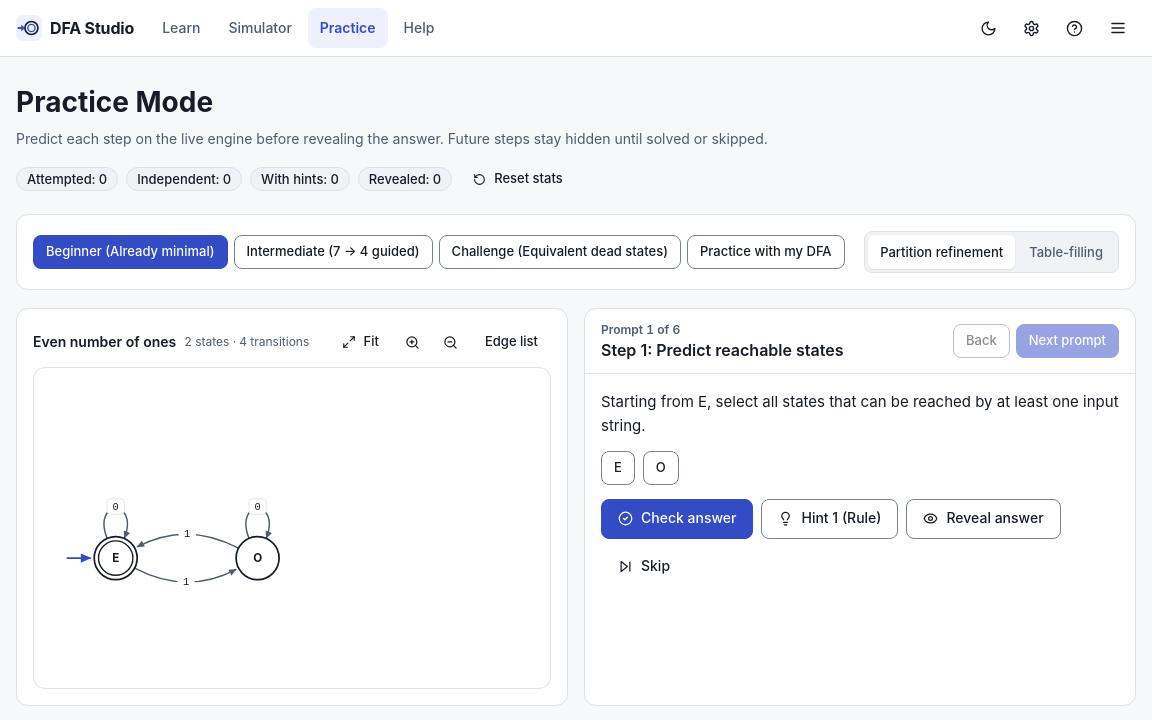
Test: UI Integration — Landing, Simulator, Builder, Practice, Persistence › supports Practice Mode answer validation and hints
Expected: the heading "Practice Mode" is shown, [16, 85, 213, 119]
Note: Beginner preset is Even-ones: E and O are both reachable
Click the button "E" at {"x": 618, "y": 468}, box [601, 451, 635, 485]
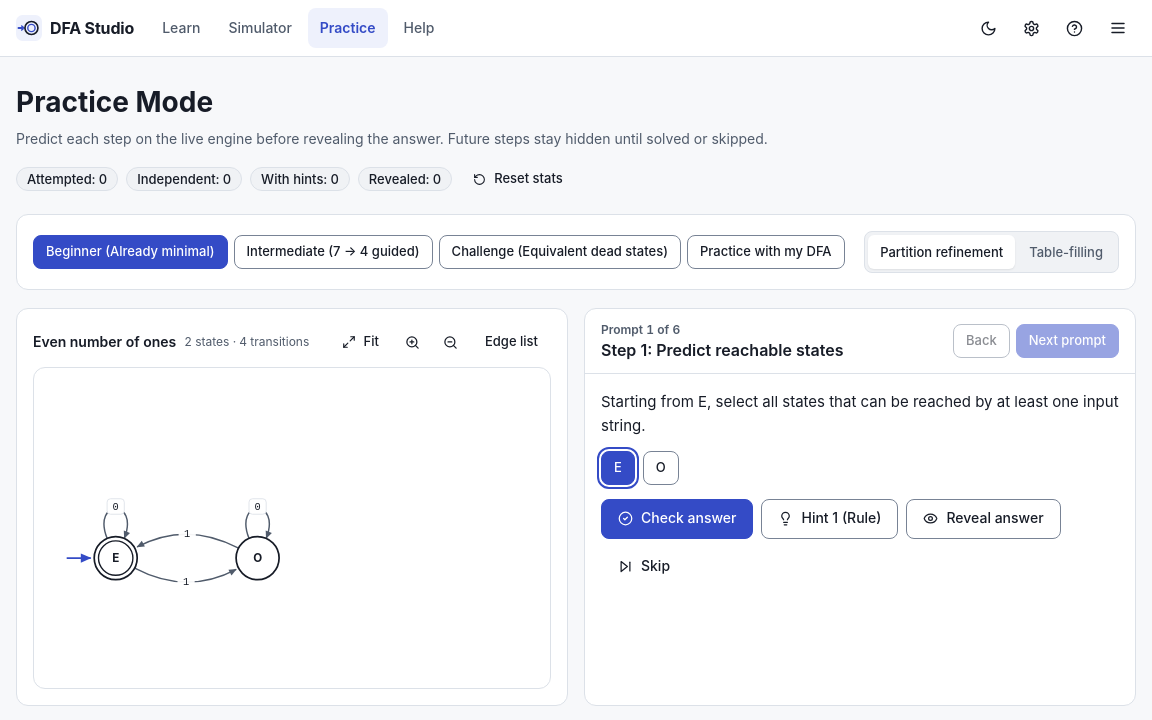
Click the button "O" at {"x": 661, "y": 468}, box [643, 451, 679, 485]
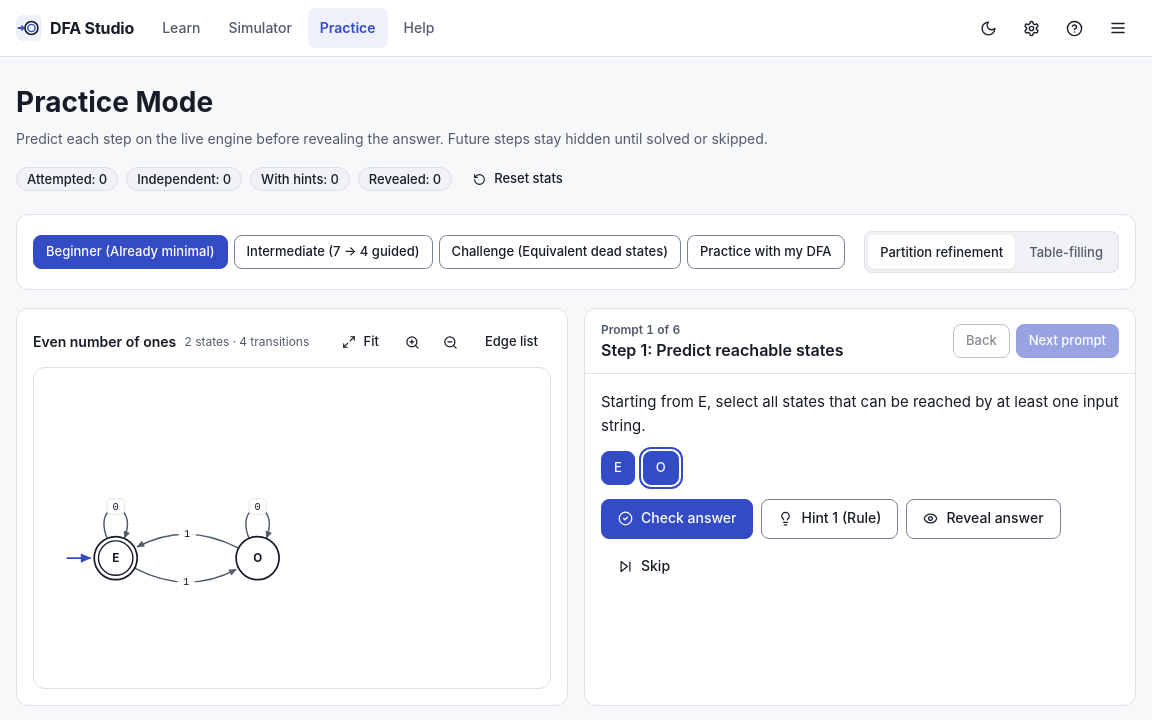
Click the button "Check answer" at {"x": 677, "y": 519}, box [601, 499, 754, 539]
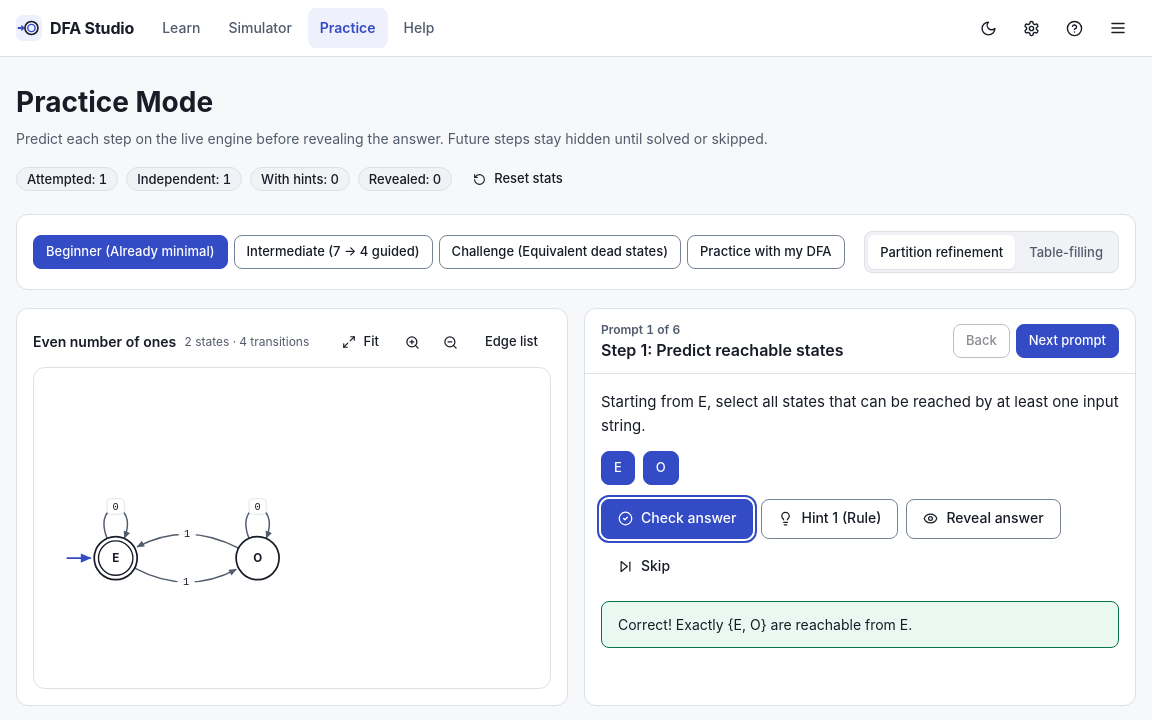
Now the message shows "Correct", box [618, 616, 912, 633]
